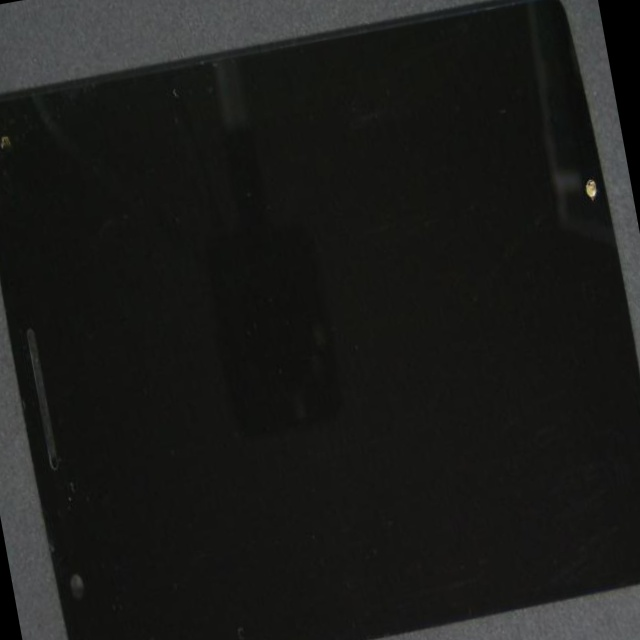stain: (248, 0, 640, 365)
